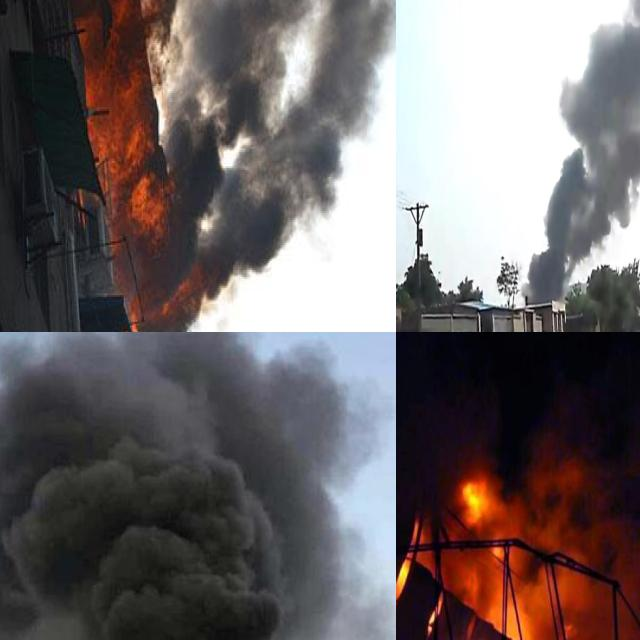fire: (75, 0, 210, 332), (396, 474, 565, 640), (459, 476, 491, 518)
smoke: (0, 332, 380, 640), (130, 0, 396, 289), (526, 0, 640, 300)
